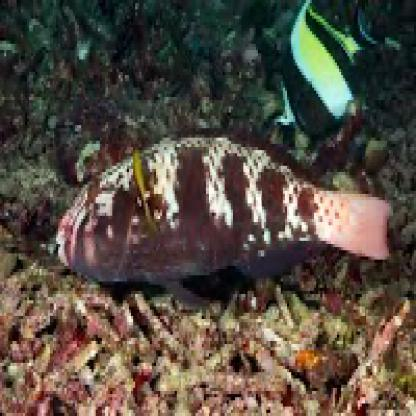Scaridae -Parrotfishes-: (49, 126, 390, 311)
Zanclidae -Moorish Idol-: (201, 1, 311, 126)
